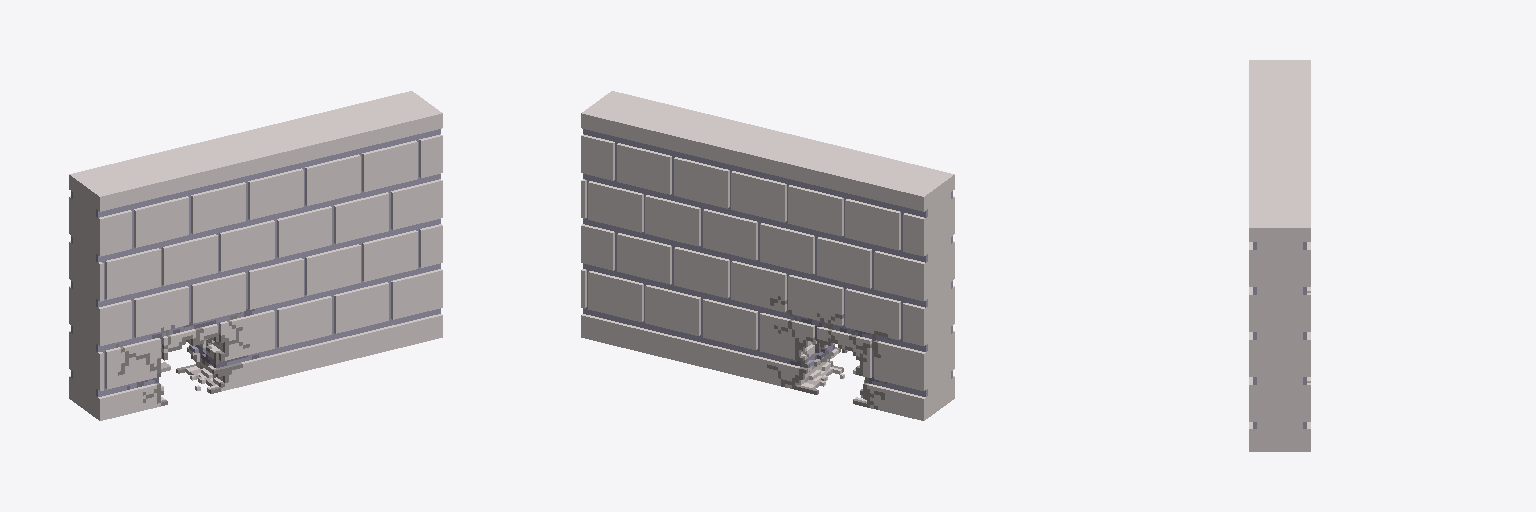
3 renders of one model, left to right at view 1: azimuth 30°, elevation 25°; view 2: azimuth 150°, elevation 25°; view 3: azimuth 270°, elevation 25°, orthographic.
Parts seen in each view (by area): view 1: object 1; view 2: object 1; view 3: object 1.
Part boxes in pixels (x1,y1,x2,y2): object 1: (69, 91, 442, 420); object 1: (581, 91, 954, 420); object 1: (1249, 60, 1310, 451).
Bounding box in the file's own units: 9.6 × 6 × 1.5.
1 materials, 1 textured.